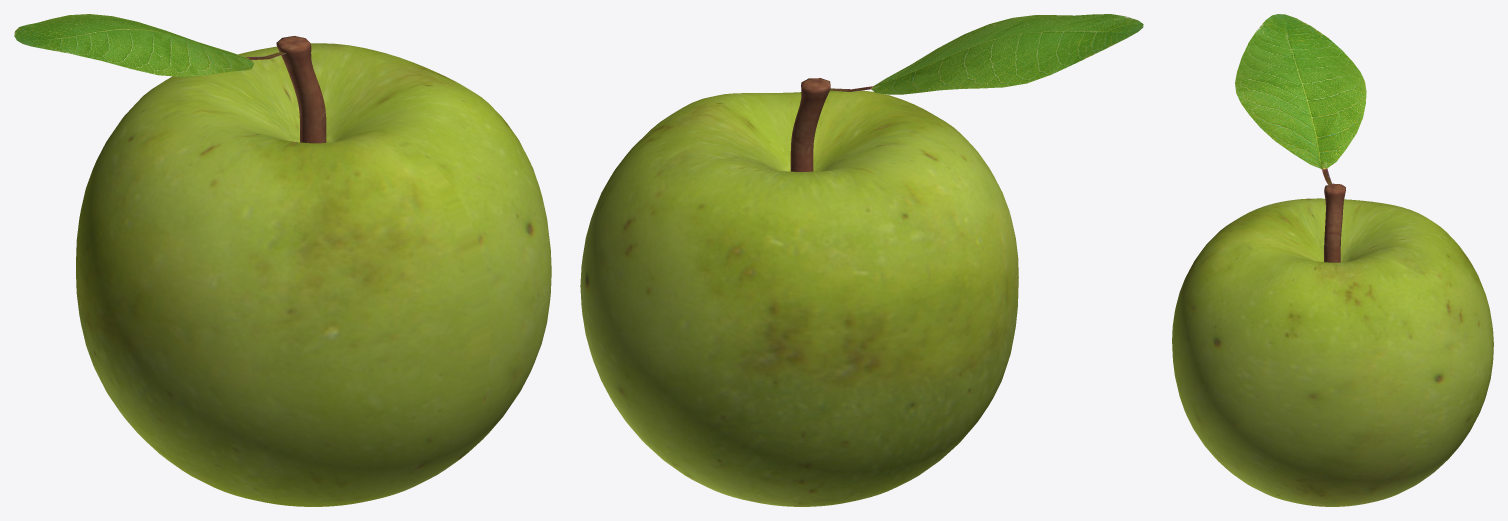
File: apple.glb
3 renders of one model, left to right at view 1: azimuth 30°, elevation 25°; view 2: azimuth 150°, elevation 25°; view 3: azimuth 270°, elevation 25°, orthographic. The views are drawn at different scales.
Parts seen in each view (by area): view 1: Sphere, Plane, Cube.001; view 2: Sphere, Plane, Cube.001; view 3: Sphere, Plane, Cube.001.
Boxes of the visible parts, x1=… form: Sphere: x1=76, y1=43, x2=551, y2=506; Plane: x1=14, y1=14, x2=285, y2=76; Cube.001: x1=276, y1=36, x2=326, y2=143; Sphere: x1=580, y1=90, x2=1018, y2=506; Plane: x1=830, y1=14, x2=1143, y2=94; Cube.001: x1=790, y1=78, x2=830, y2=171; Sphere: x1=1172, y1=198, x2=1493, y2=506; Plane: x1=1235, y1=14, x2=1366, y2=184; Cube.001: x1=1324, y1=183, x2=1345, y2=262.
Bounding box in the file's own units: 2.55 × 2.39 × 1.96.
1 material, 1 textured.
